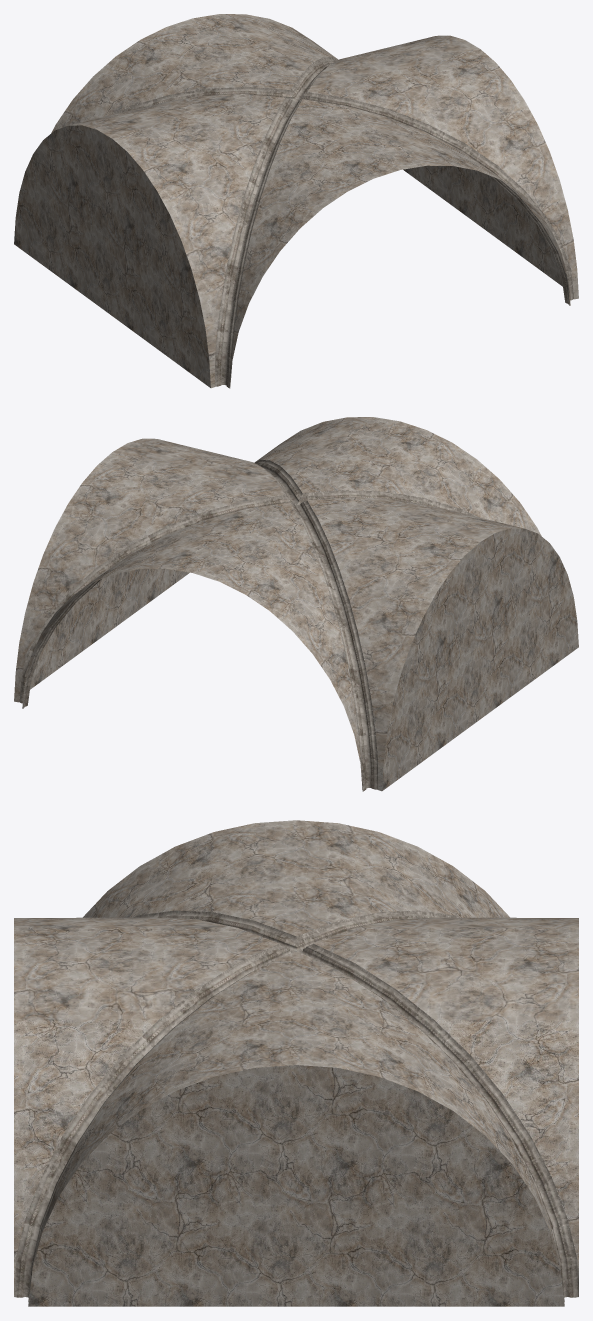
3 views of the same model, one above another, from view 1: azimuth 30°, elevation 25°; view 2: azimuth 150°, elevation 25°; view 3: azimuth 270°, elevation 25° (orthographic). The views are drawn at different scales.
Visible parts, largest first — view 1: SM_Ceiling02c_LOD0; view 2: SM_Ceiling02c_LOD0; view 3: SM_Ceiling02c_LOD0.
Boxes of the visible parts, left/top/right/bottom form: SM_Ceiling02c_LOD0: left=14, top=14, right=578, bottom=388; SM_Ceiling02c_LOD0: left=14, top=417, right=578, bottom=791; SM_Ceiling02c_LOD0: left=14, top=820, right=578, bottom=1306.
Bounding box in the file's own units: 8.2 × 3.78 × 8.
2 materials, 2 textured.
